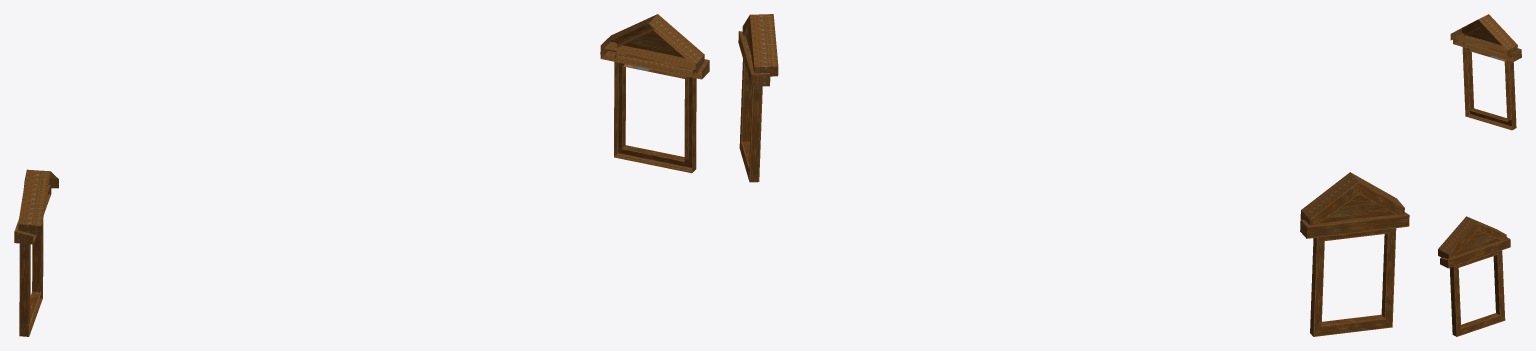
3 renders of one model, left to right at view 1: azimuth 30°, elevation 25°; view 2: azimuth 150°, elevation 25°; view 3: azimuth 270°, elevation 25°, orthographic. The views are drawn at different scales.
Visible parts, largest first — view 1: Cube.2005; view 2: Cube.2005; view 3: Cube.2005.
Boxes of the visible parts, x1,y1,x2,y2 form: Cube.2005: (14,14,709,336); Cube.2005: (738,14,1409,336); Cube.2005: (1438,14,1521,336).
Bounding box in the file's own units: 1586 × 358 × 238.
1 material, 1 textured.
